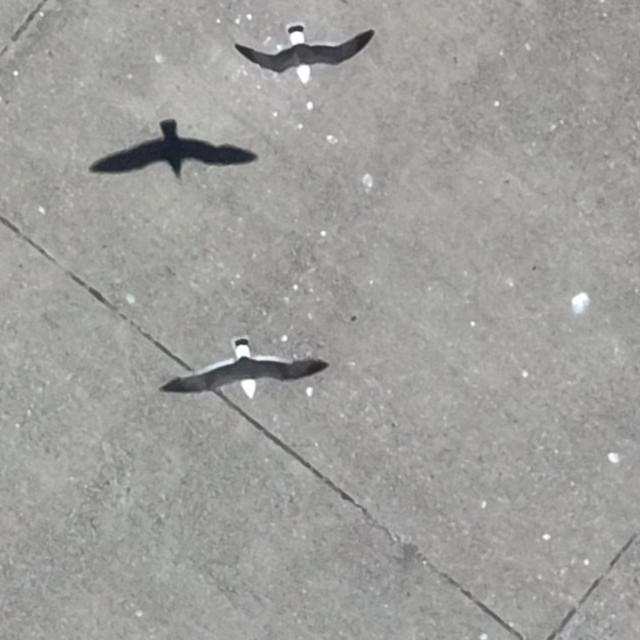F: (264, 31, 358, 74)
umineko: (191, 340, 297, 401)
